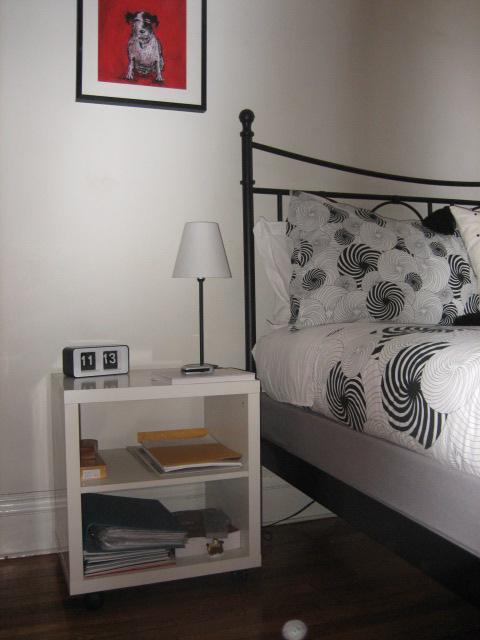Cama: (250, 147, 477, 615)
